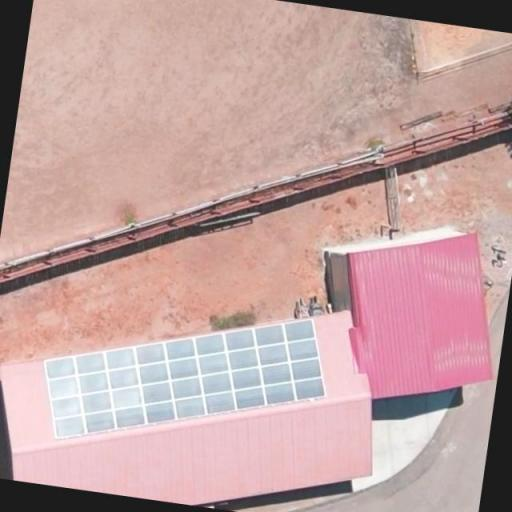solar-panel: (43, 319, 326, 439)
